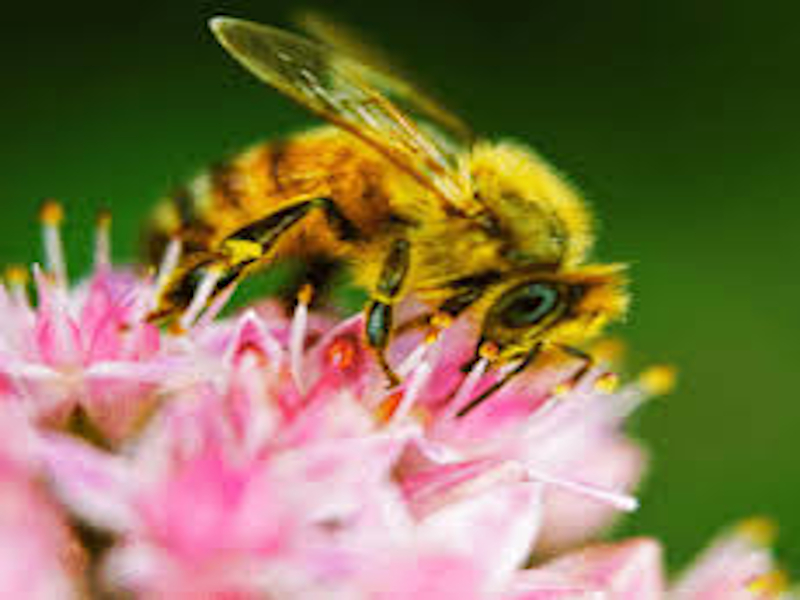abeja: (70, 4, 701, 436)
